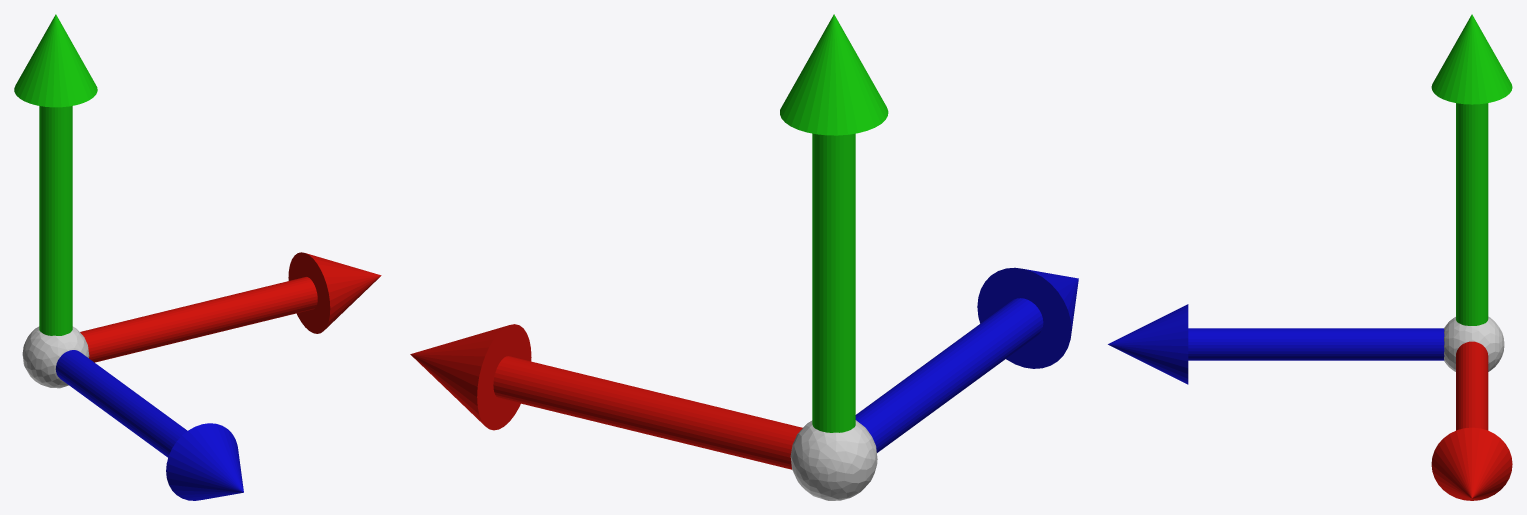
File: axes.obj
3 views of the same model, side by side, from view 1: azimuth 30°, elevation 25°; view 2: azimuth 150°, elevation 25°; view 3: azimuth 270°, elevation 25° (orthographic). The views are drawn at different scales.
Visible parts, largest first — view 1: y-axis, x-axis, z-axis, Sphere; view 2: y-axis, x-axis, z-axis, Sphere; view 3: z-axis, y-axis, x-axis, Sphere.
Boxes of the visible parts, box(x1,y1,x2,y2) form: y-axis: box(14, 14, 97, 335); x-axis: box(80, 252, 381, 362); z-axis: box(55, 350, 243, 500); Sphere: box(22, 326, 89, 388); y-axis: box(780, 14, 888, 432); x-axis: box(410, 324, 802, 469); z-axis: box(855, 267, 1078, 452); Sphere: box(790, 420, 877, 500); z-axis: box(1108, 304, 1444, 384); y-axis: box(1431, 14, 1512, 325); x-axis: box(1431, 341, 1512, 500); Sphere: box(1444, 316, 1504, 371).
Bounding box in the file's own units: 2.5 × 2.5 × 2.5.
